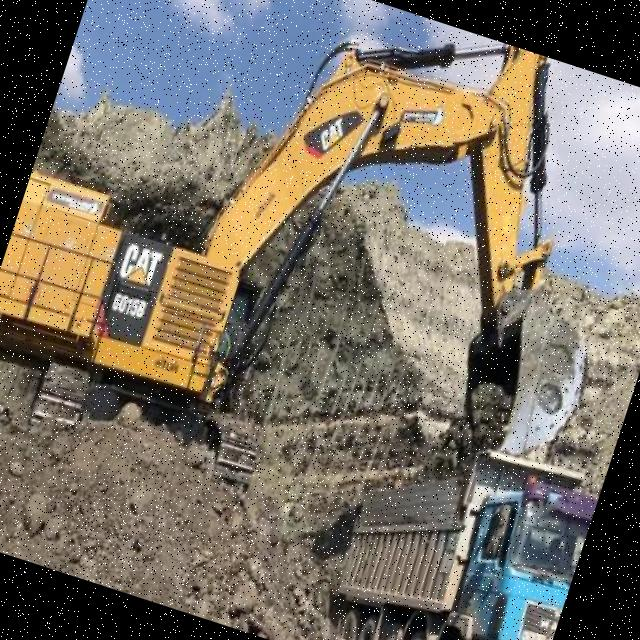Dump Truck: (307, 407, 605, 640)
Excavator: (0, 0, 640, 599)
